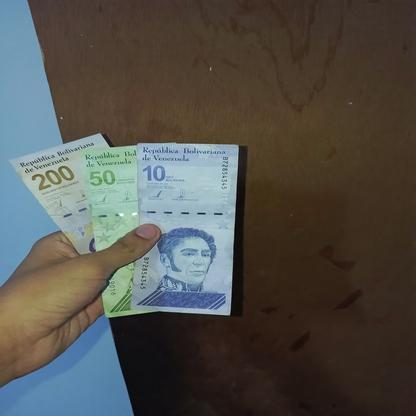vef_front: (129, 143, 239, 316), (8, 132, 110, 256), (78, 144, 140, 318)
